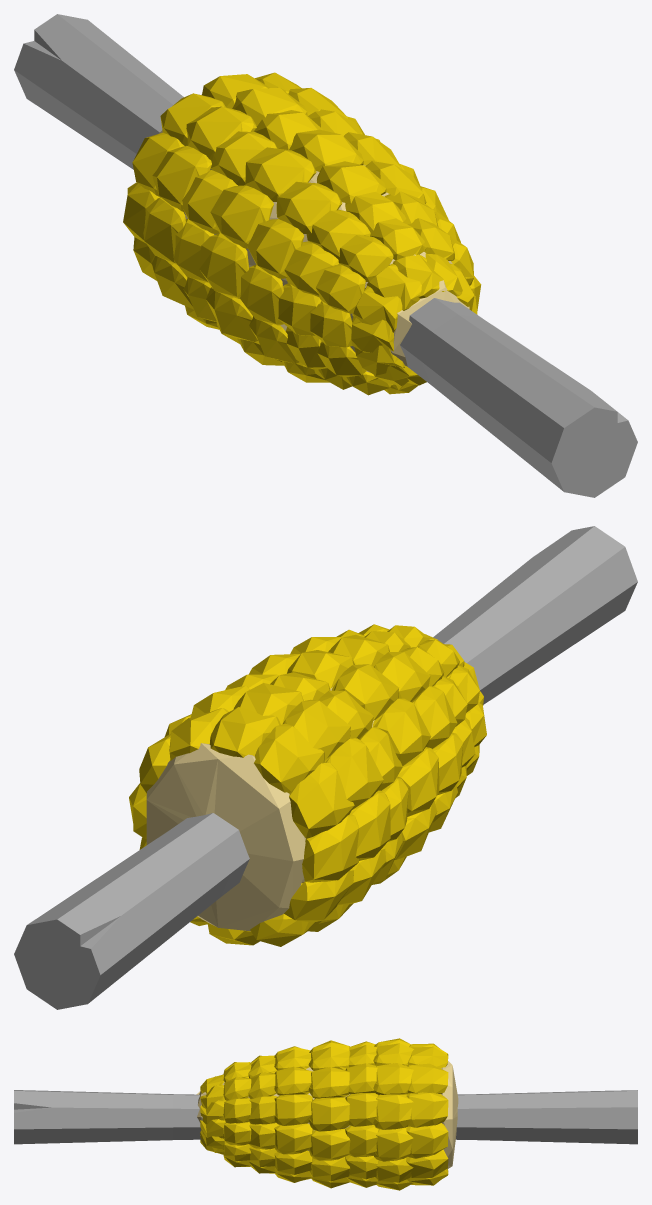
File: corn and wood.fbx
The picture shows the model from 3 angles, top to bottom: view 1: azimuth 30°, elevation 25°; view 2: azimuth 150°, elevation 25°; view 3: azimuth 270°, elevation 25°; orthographic projection. The views are drawn at different scales.
Visible parts, largest first — view 1: polySurface114, pCylinder1; view 2: polySurface114, pCylinder1; view 3: polySurface114, pCylinder1.
Part boxes in pixels (<box>): polySurface114: <box>123,72,481,395</box>; pCylinder1: <box>14,14,637,497</box>; polySurface114: <box>129,624,486,946</box>; pCylinder1: <box>14,526,637,1009</box>; polySurface114: <box>196,1038,458,1190</box>; pCylinder1: <box>14,1090,637,1144</box>.
Size of the model in its own units: 3.15 by 3.15 by 12.8.
